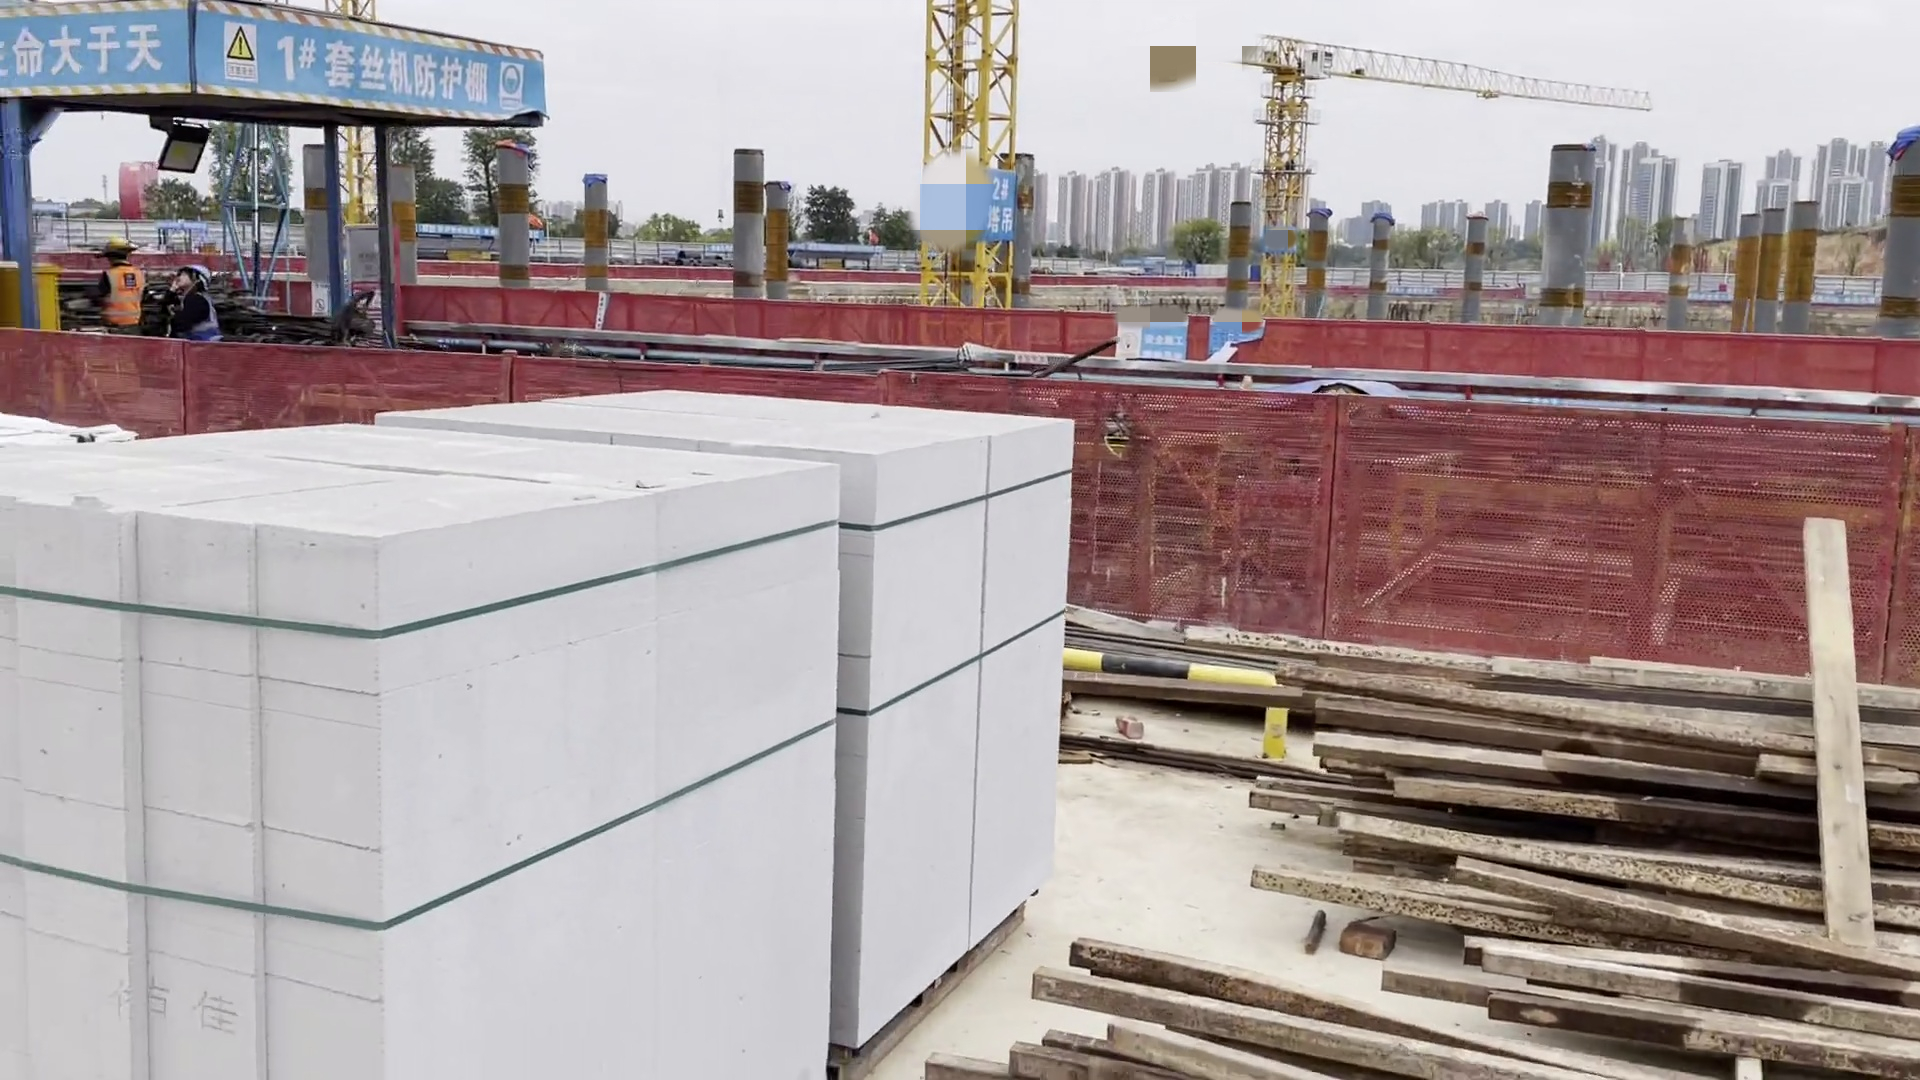brick: (12, 412, 1147, 1080)
fence: (1088, 385, 1912, 666)
helmet: (101, 233, 133, 267), (184, 261, 210, 291)
person: (95, 233, 150, 323), (167, 256, 218, 348)
slogan: (4, 7, 521, 116), (1112, 314, 1193, 365)
vest: (97, 265, 144, 314), (178, 286, 216, 342)
wood: (1147, 672, 1913, 1080)
